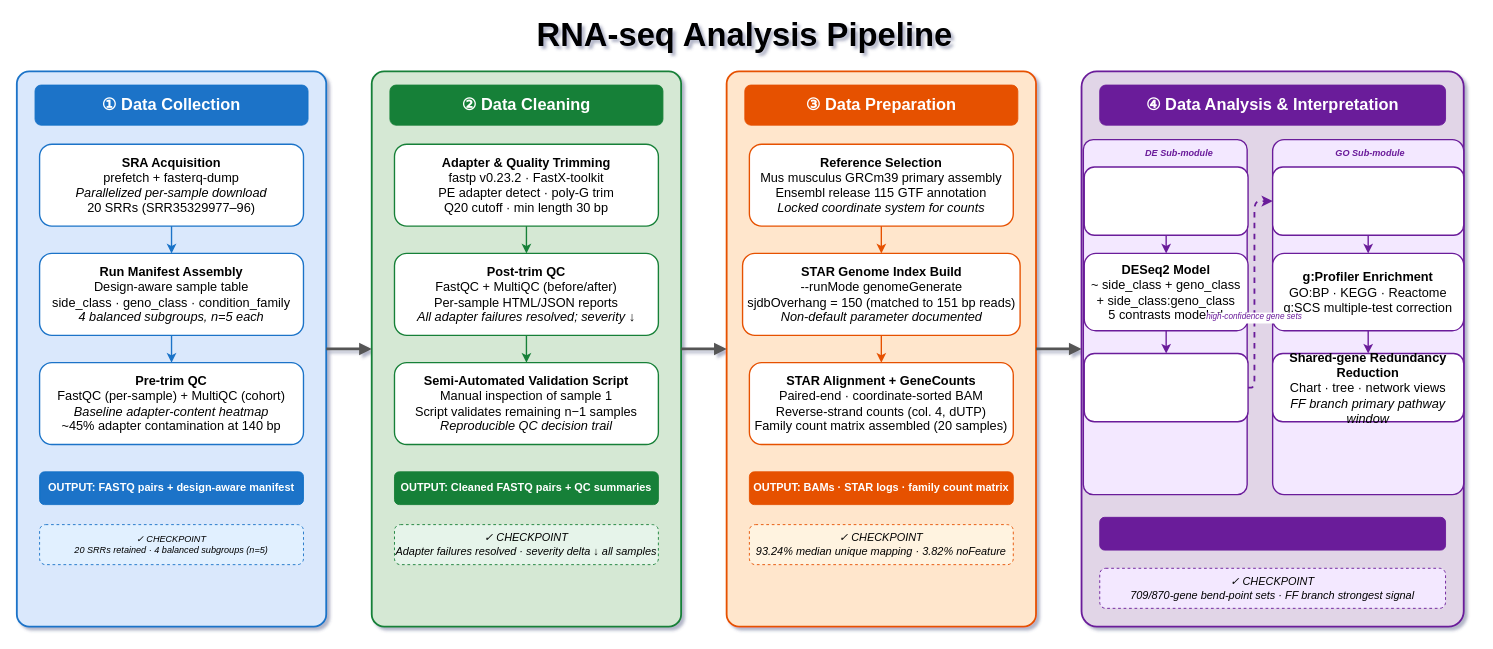
Image size: 1493x649. Some labels were removed from this diagram. The shapes that lost their labels are listed below. From the top down, each one's centre as x and y in pixels, then its label:
At pixel 1165 201: "PCA & Sample Distance VST counts · Euclidean distance Global structure before DE".
At pixel 1368 201: "Bend-point Selection Ordered padj curve inflection 709 (ff) · 870 (cre) genes".
At pixel 1165 387: "Count Filtering ≥10 counts in ≥3 samples 78,334 → 21,481 genes".
At pixel 1272 533: "OUTPUT: DE tables · bend-point sets · pathway summaries".
